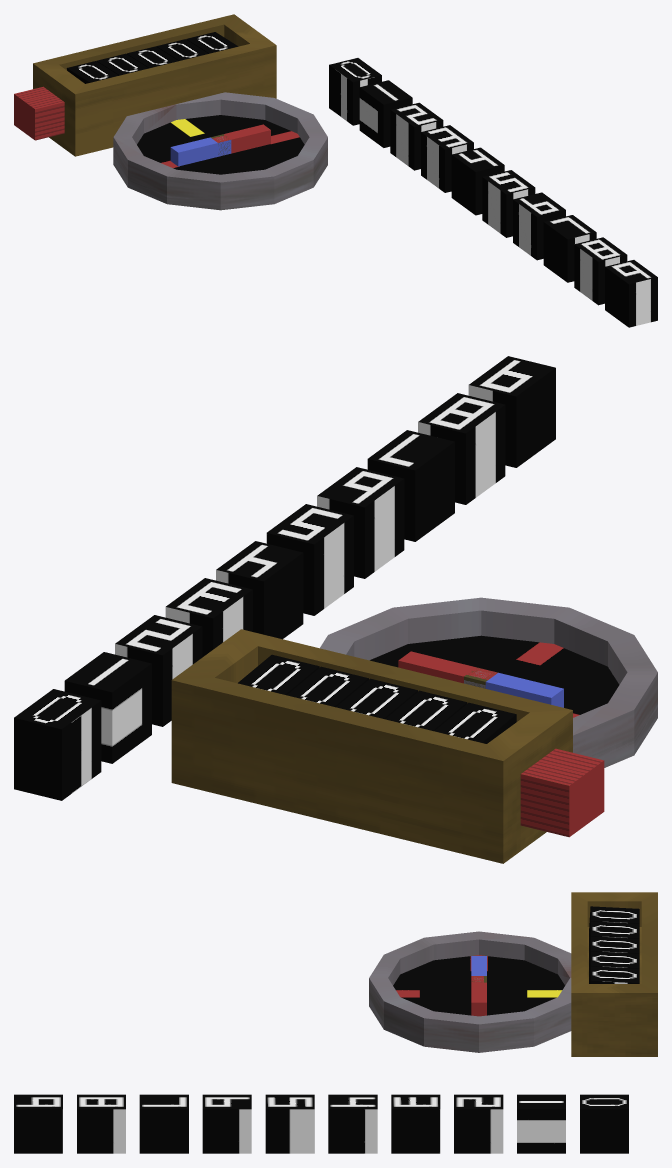
The model's file is Compass.obj.
3 renders of one model, top to bottom at view 1: azimuth 30°, elevation 25°; view 2: azimuth 150°, elevation 25°; view 3: azimuth 270°, elevation 25°, orthographic. The views are drawn at different scales.
Parts seen in each view (by area): view 1: Compass_Base_CompassBase, Altimiter_Case_Altimiter_Mat, 9_9Mat, 1_1mat, 4_4Mat, 7_7Mat, 5_5Mat, 8_8Mat, 2_2Mat, 0_0Mat, 3_3Mat, 6_6Mat (+6 smaller); view 2: Altimiter_Case_Altimiter_Mat, Compass_Base_CompassBase, 0_0Mat, 5_5Mat, 1_1mat, 7_7Mat, 6_6Mat, 8_8Mat, 9_9Mat, 4_4Mat, 2_2Mat, 3_3Mat (+6 smaller); view 3: Compass_Base_CompassBase, Altimiter_Case_Altimiter_Mat, 4_4Mat, 2_2Mat, 3_3Mat, 5_5Mat, 6_6Mat, 7_7Mat, 0_0Mat, 1_1mat, 8_8Mat, 9_9Mat (+6 smaller).
Part boxes in pixels (x1,y1,x2,y2): Compass_Base_CompassBase: (113, 92, 327, 210); Altimiter_Case_Altimiter_Mat: (14, 14, 276, 156); 9_9Mat: (605, 260, 657, 327); 1_1mat: (359, 80, 412, 147); 4_4Mat: (451, 147, 504, 215); 7_7Mat: (543, 215, 596, 282); 5_5Mat: (482, 170, 535, 237); 8_8Mat: (574, 237, 627, 305); 2_2Mat: (390, 102, 443, 170); 0_0Mat: (329, 58, 381, 125); 3_3Mat: (421, 125, 473, 192); 6_6Mat: (513, 192, 565, 260); Altimiter_Case_Altimiter_Mat: (171, 629, 604, 863); Compass_Base_CompassBase: (320, 597, 657, 767); 0_0Mat: (14, 689, 101, 800); 5_5Mat: (266, 504, 353, 615); 1_1mat: (64, 652, 151, 763); 7_7Mat: (367, 430, 454, 541); 6_6Mat: (317, 467, 404, 578); 8_8Mat: (418, 393, 505, 504); 9_9Mat: (468, 356, 555, 467); 4_4Mat: (216, 541, 303, 639); 2_2Mat: (115, 615, 202, 726); 3_3Mat: (165, 578, 252, 657); Compass_Base_CompassBase: (369, 931, 571, 1052); Altimiter_Case_Altimiter_Mat: (571, 892, 657, 1056); 4_4Mat: (328, 1094, 377, 1153); 2_2Mat: (454, 1094, 503, 1153); 3_3Mat: (391, 1094, 440, 1153); 5_5Mat: (265, 1094, 314, 1153); 6_6Mat: (202, 1094, 251, 1153); 7_7Mat: (139, 1094, 188, 1153); 0_0Mat: (580, 1094, 628, 1153); 1_1mat: (517, 1094, 565, 1153); 8_8Mat: (77, 1094, 125, 1153); 9_9Mat: (14, 1094, 62, 1153).
Size of the model in its own units: 0.2566 by 0.0744 by 0.4097.
